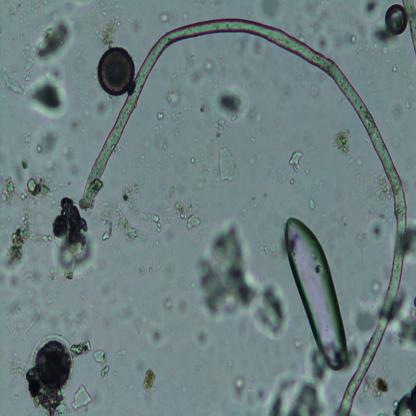Air bubble: (282, 214, 349, 374)
Background material: (198, 218, 290, 340), (311, 3, 388, 61), (262, 368, 334, 414), (47, 196, 94, 262), (37, 122, 80, 182), (26, 69, 68, 118), (2, 292, 43, 340), (184, 37, 222, 86), (6, 212, 40, 262), (35, 18, 75, 58), (394, 285, 416, 352), (113, 299, 148, 336), (216, 85, 250, 120), (0, 260, 45, 284), (167, 92, 186, 146), (216, 146, 244, 182), (115, 204, 140, 244), (142, 248, 172, 280), (47, 258, 76, 287), (392, 379, 416, 413), (115, 174, 144, 202), (174, 201, 201, 230), (140, 202, 163, 235), (101, 16, 126, 45), (372, 167, 392, 203), (97, 202, 114, 243), (384, 6, 407, 36), (367, 214, 387, 248), (23, 172, 49, 198), (0, 66, 24, 94), (366, 377, 392, 401), (335, 126, 354, 158), (0, 174, 18, 207), (87, 93, 111, 117), (68, 387, 94, 409), (252, 27, 268, 60), (354, 308, 378, 330), (193, 329, 216, 350), (228, 375, 247, 400), (405, 220, 416, 263), (93, 348, 109, 376), (158, 292, 180, 312), (228, 34, 249, 54), (20, 42, 35, 70), (304, 189, 319, 216), (72, 338, 92, 358), (388, 99, 404, 123), (142, 366, 156, 392), (156, 7, 175, 26), (256, 235, 275, 254), (288, 149, 304, 170), (150, 332, 168, 350), (275, 167, 290, 186), (155, 110, 167, 122), (188, 151, 197, 165)
Diatom: (33, 332, 74, 390), (99, 49, 135, 95)
Microfibre: (78, 17, 406, 413), (400, 0, 416, 56)
